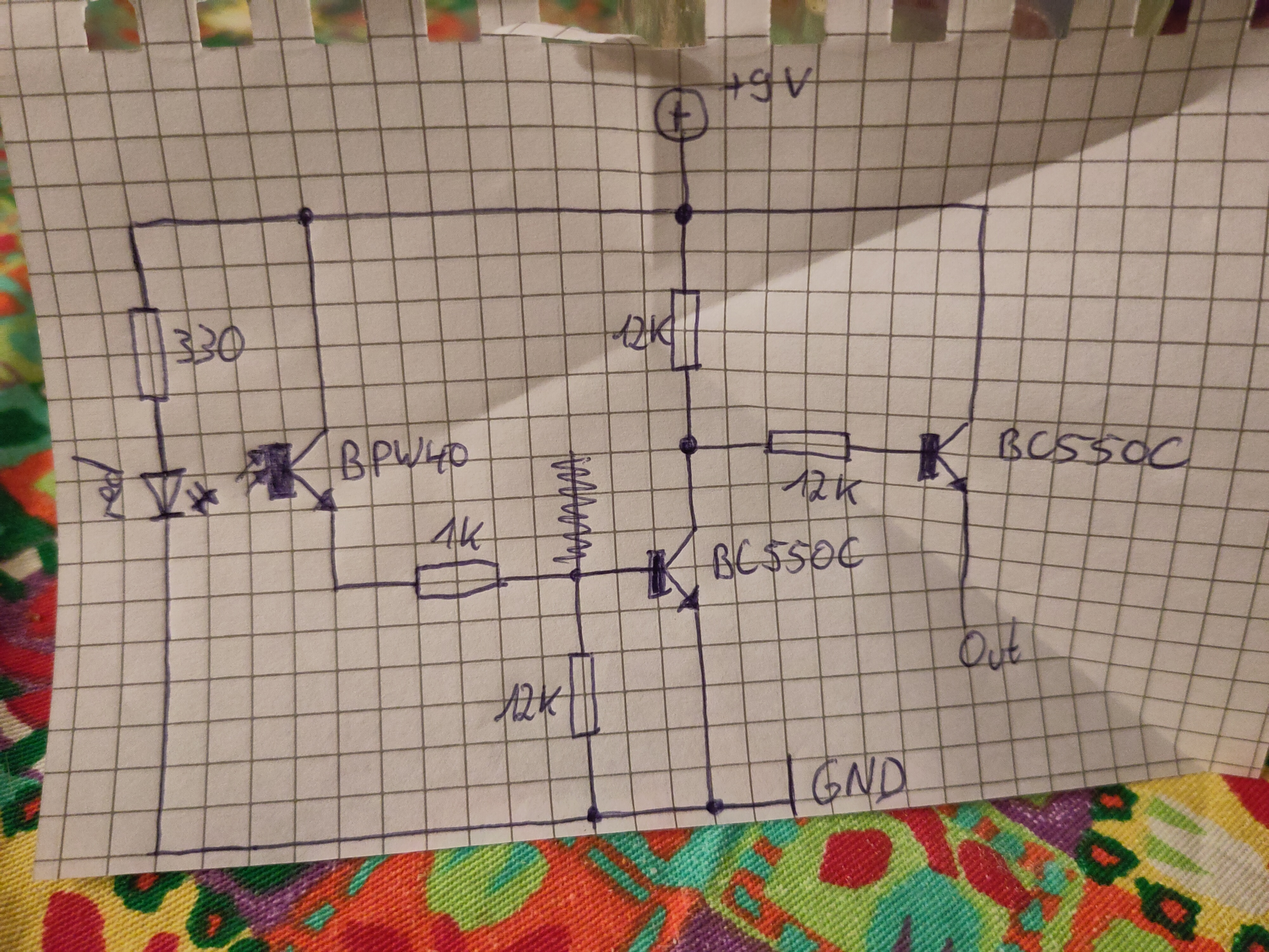diode.light_emitting: (138, 464, 223, 524)
gnd: (783, 750, 799, 818)
junction: (672, 200, 696, 228), (676, 433, 700, 458), (294, 203, 316, 228), (703, 794, 725, 817), (583, 806, 603, 827), (121, 217, 142, 237), (565, 566, 585, 585), (327, 579, 344, 596), (144, 846, 164, 859), (978, 201, 993, 215)
optocoupler: (138, 427, 341, 524)
resistor: (411, 556, 511, 601), (127, 303, 171, 405), (668, 286, 708, 380), (565, 648, 603, 744), (761, 428, 854, 464)
terminal: (961, 622, 969, 631)
text: (996, 426, 1194, 471), (709, 533, 870, 580), (336, 434, 475, 485), (807, 752, 908, 808), (170, 319, 252, 369), (70, 453, 129, 522), (718, 63, 814, 104), (956, 615, 1025, 672), (491, 679, 567, 729), (781, 466, 867, 508), (610, 307, 672, 352), (429, 513, 488, 555)
transistor.bjt: (644, 532, 705, 614), (916, 419, 976, 491)
transistor.photo: (233, 427, 341, 516)
vss: (651, 85, 711, 145)
